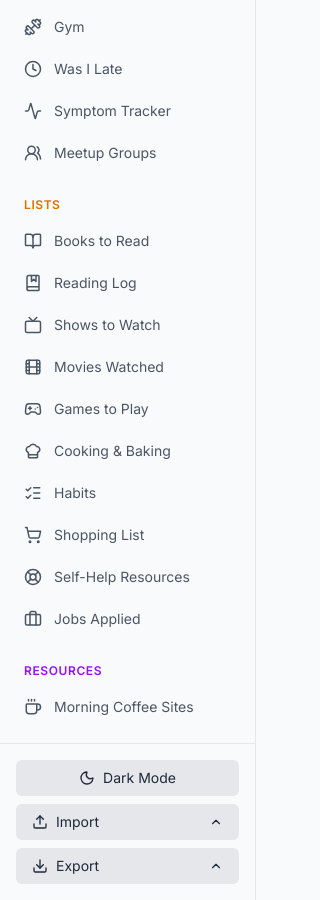
Test: Sidebar › clicking Export opens the format menu with Excel and Markdown options
The image size is (320, 900).
(page scrolled)
Click the button "Export" at (128, 866), box [16,848,239,884]
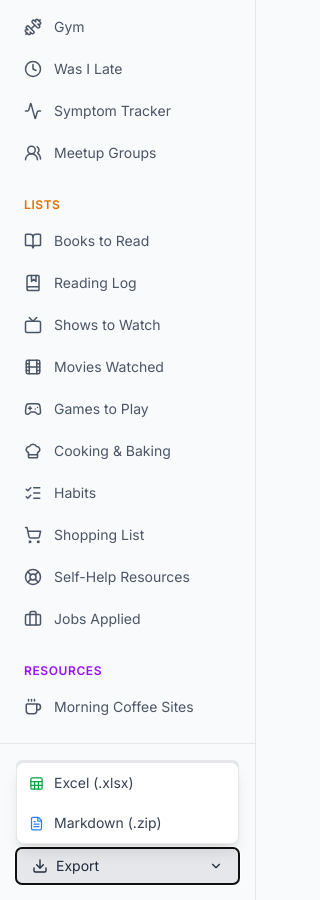
Expected: the button "Excel (.xlsx)" is shown, [17,763,238,803]
Expected: the button "Markdown (.zip)" is shown, [17,803,238,843]
